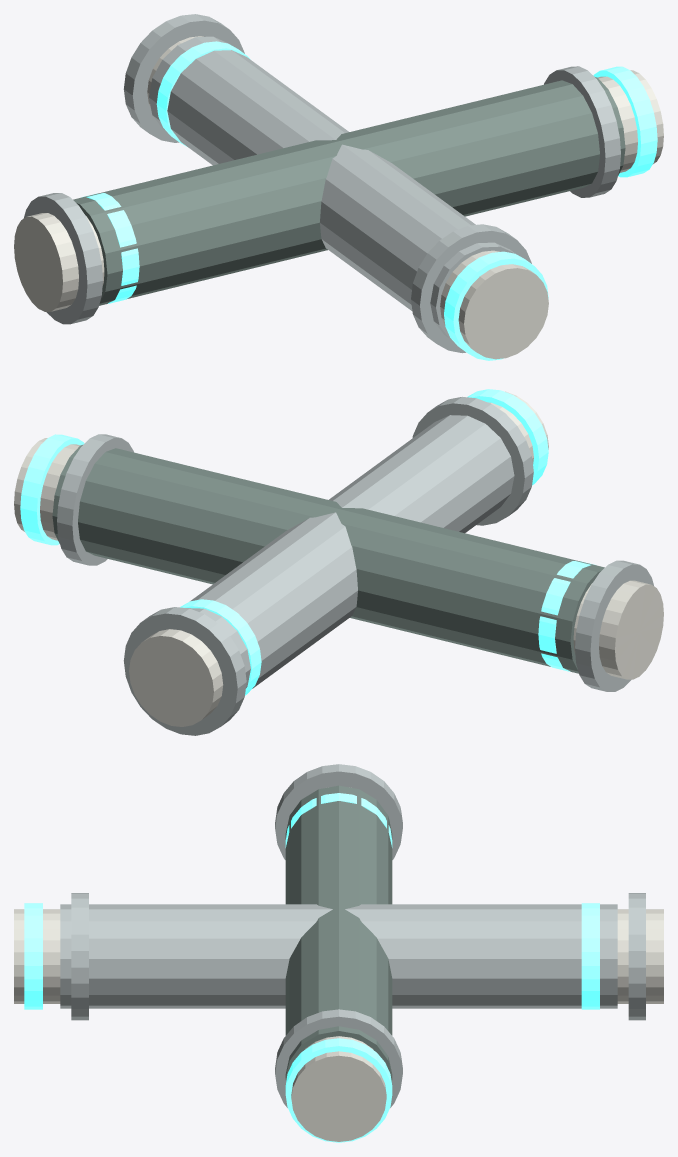
The model's file is s7-i04-cross.glb.
3 renders of one model, top to bottom at view 1: azimuth 30°, elevation 25°; view 2: azimuth 150°, elevation 25°; view 3: azimuth 270°, elevation 25°, orthographic. The views are drawn at different scales.
Parts seen in each view (by area): view 1: 000_rigid_splitter_trunk, 007_branch_0, 011_branch_1, 008_branch_connector_0_sealing_socket, 001_input_sealing_socket, 014_branch_connector_1_locking_collar, 003_input_locking_collar, 010_branch_connector_0_locking_collar, 006_output_locking_collar, 005_output_cyan_snap_seal, 009_branch_connector_0_cyan_snap_seal, 004_output_sealing_socket (+2 smaller); view 2: 000_rigid_splitter_trunk, 011_branch_1, 007_branch_0, 012_branch_connector_1_sealing_socket, 001_input_sealing_socket, 014_branch_connector_1_locking_collar, 003_input_locking_collar, 010_branch_connector_0_locking_collar, 006_output_locking_collar, 005_output_cyan_snap_seal, 004_output_sealing_socket, 009_branch_connector_0_cyan_snap_seal (+2 smaller); view 3: 007_branch_0, 011_branch_1, 000_rigid_splitter_trunk, 004_output_sealing_socket, 003_input_locking_collar, 006_output_locking_collar, 012_branch_connector_1_sealing_socket, 008_branch_connector_0_sealing_socket, 010_branch_connector_0_locking_collar, 014_branch_connector_1_locking_collar, 005_output_cyan_snap_seal, 009_branch_connector_0_cyan_snap_seal (+2 smaller).
Boxes of the visible parts, bbox=[...] form: 000_rigid_splitter_trunk: bbox=[73, 77, 625, 305]; 007_branch_0: bbox=[320, 144, 514, 339]; 011_branch_1: bbox=[149, 36, 348, 165]; 008_branch_connector_0_sealing_socket: bbox=[440, 250, 548, 359]; 001_input_sealing_socket: bbox=[14, 213, 104, 311]; 014_branch_connector_1_locking_collar: bbox=[123, 14, 244, 142]; 003_input_locking_collar: bbox=[23, 193, 102, 324]; 010_branch_connector_0_locking_collar: bbox=[411, 224, 531, 353]; 006_output_locking_collar: bbox=[544, 66, 620, 197]; 005_output_cyan_snap_seal: bbox=[593, 66, 657, 177]; 009_branch_connector_0_cyan_snap_seal: bbox=[444, 251, 548, 360]; 004_output_sealing_socket: bbox=[597, 70, 663, 172]; 000_rigid_splitter_trunk: bbox=[52, 445, 604, 673]; 011_branch_1: bbox=[186, 512, 357, 688]; 007_branch_0: bbox=[329, 415, 514, 533]; 012_branch_connector_1_sealing_socket: bbox=[129, 629, 223, 726]; 001_input_sealing_socket: bbox=[573, 580, 663, 679]; 014_branch_connector_1_locking_collar: bbox=[123, 607, 246, 735]; 003_input_locking_collar: bbox=[575, 560, 653, 691]; 010_branch_connector_0_locking_collar: bbox=[412, 396, 533, 525]; 006_output_locking_collar: bbox=[57, 434, 133, 565]; 005_output_cyan_snap_seal: bbox=[20, 434, 84, 545]; 004_output_sealing_socket: bbox=[14, 438, 80, 540]; 009_branch_connector_0_cyan_snap_seal: bbox=[467, 389, 548, 485]; 007_branch_0: bbox=[60, 904, 332, 1008]; 011_branch_1: bbox=[345, 904, 617, 1008]; 000_rigid_splitter_trunk: bbox=[285, 785, 392, 1081]; 004_output_sealing_socket: bbox=[291, 1036, 386, 1141]; 003_input_locking_collar: bbox=[275, 764, 402, 859]; 006_output_locking_collar: bbox=[275, 1009, 402, 1107]; 012_branch_connector_1_sealing_socket: bbox=[617, 909, 663, 1003]; 008_branch_connector_0_sealing_socket: bbox=[14, 909, 60, 1003]; 010_branch_connector_0_locking_collar: bbox=[71, 893, 88, 1020]; 014_branch_connector_1_locking_collar: bbox=[628, 893, 645, 1020]; 005_output_cyan_snap_seal: bbox=[285, 1038, 392, 1142]; 009_branch_connector_0_cyan_snap_seal: bbox=[24, 903, 42, 1009].
Size of the model in its own units: 0.58 by 0.11 by 0.56.
